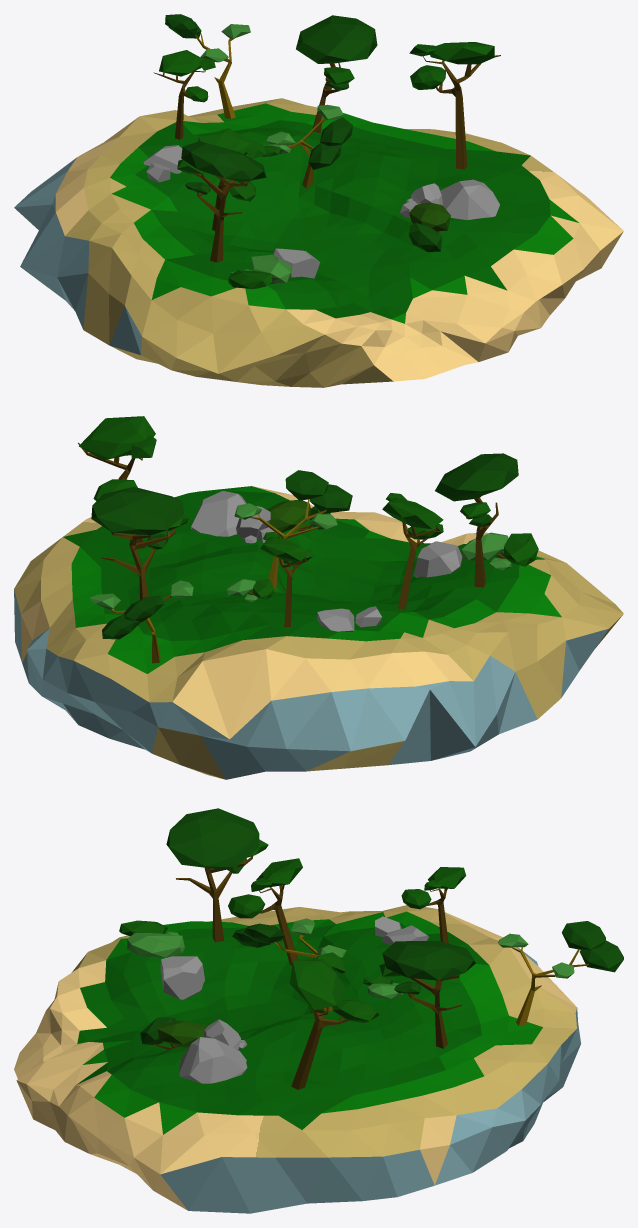
The model's file is Island3_Mod.fbx.
3 renders of one model, top to bottom at view 1: azimuth 30°, elevation 25°; view 2: azimuth 150°, elevation 25°; view 3: azimuth 270°, elevation 25°, orthographic. The views are drawn at different scales.
Parts seen in each view (by area): view 1: Icosphere; view 2: Icosphere; view 3: Icosphere.
Boxes of the visible parts, x1,y1,x2,y2 form: Icosphere: (14,14,623,387); Icosphere: (14,416,623,779); Icosphere: (14,808,623,1213).
Bounding box in the file's own units: 2372 × 1016 × 2543.
